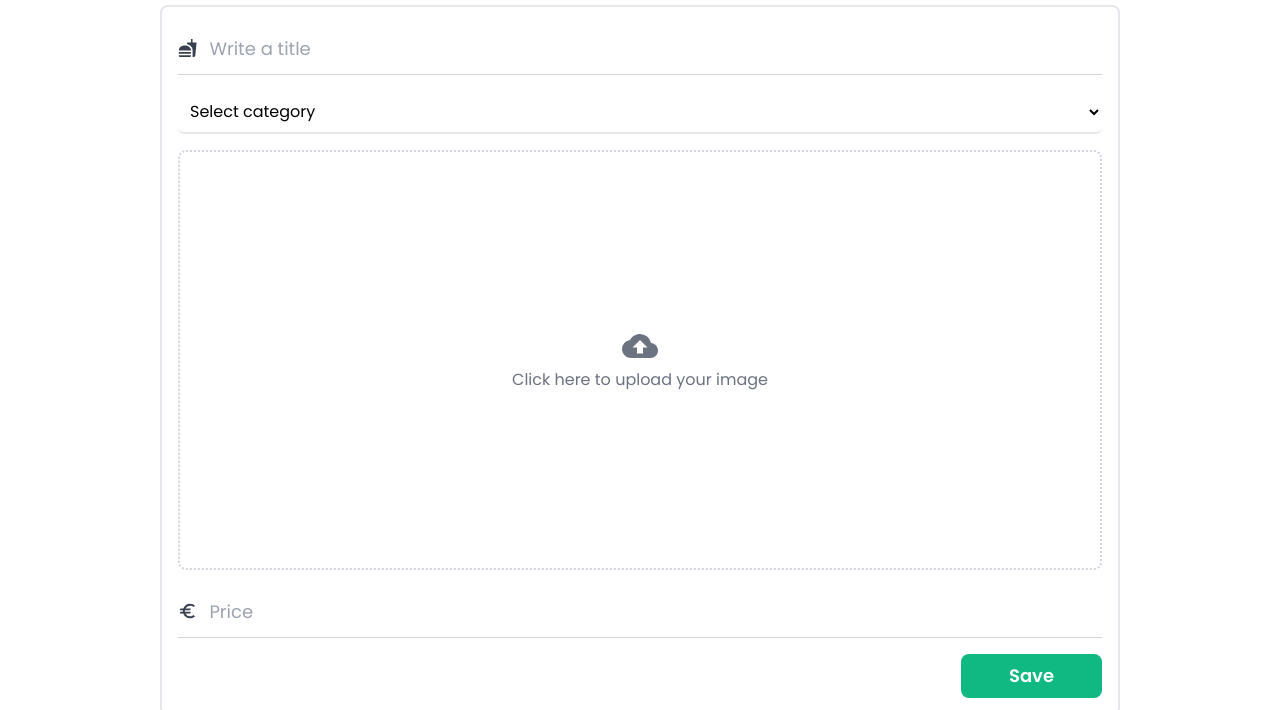
Test: CreateProduct Component page › Should render CreateProduct and display an error if fields are empty
Expected: the field with placeholder "Write a title" is shown, [205,30,1102,66]
Select "Starters" in the dropdown at (640, 112), box [178,90,1102,134]
Select "Nigiri" in the dropdown at (640, 112), box [178,90,1102,134]
Select "Maki" in the dropdown at (640, 112), box [178,90,1102,134]
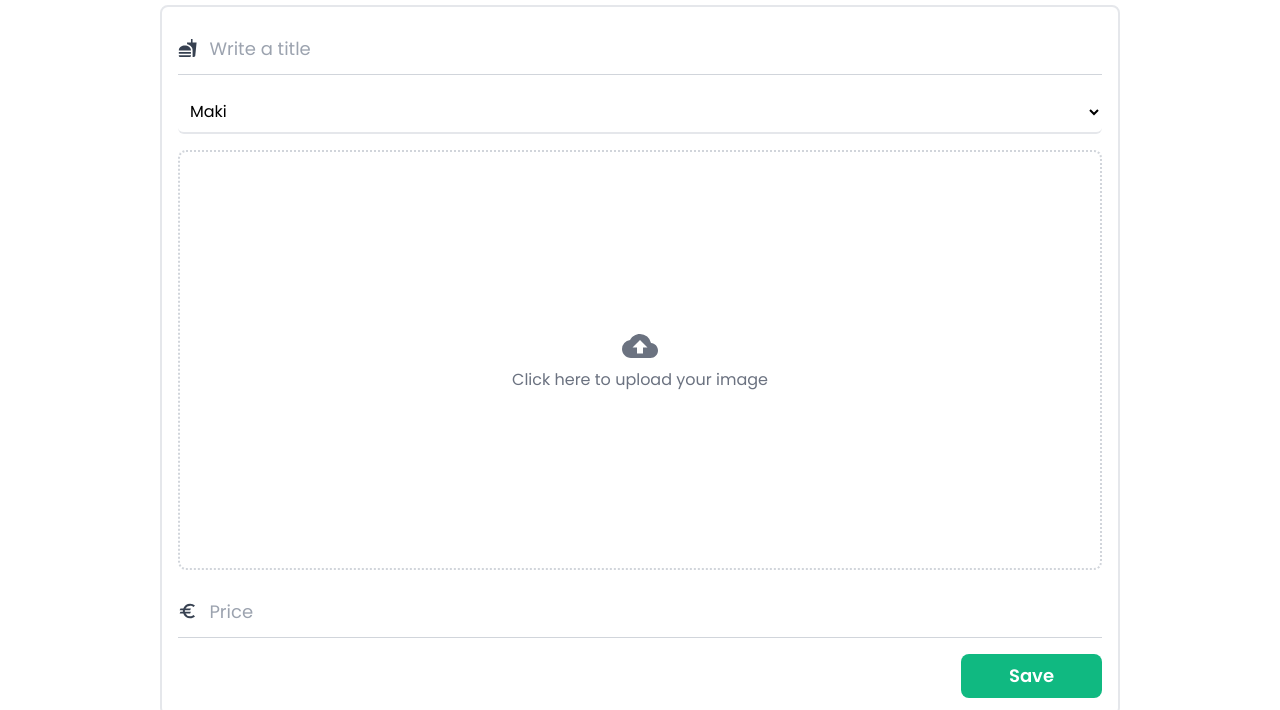
Select "Temaki" in the dropdown at (640, 112), box [178,90,1102,134]
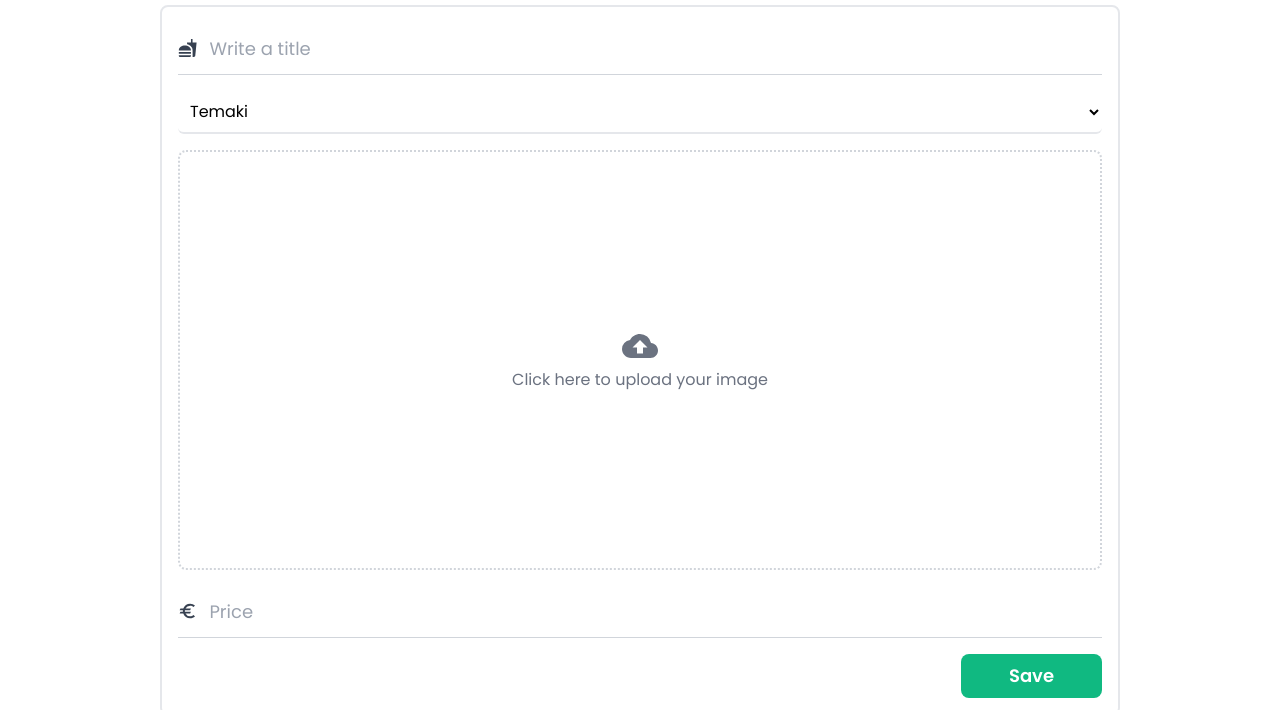
Select "Sashimi" in the dropdown at (640, 112), box [178,90,1102,134]
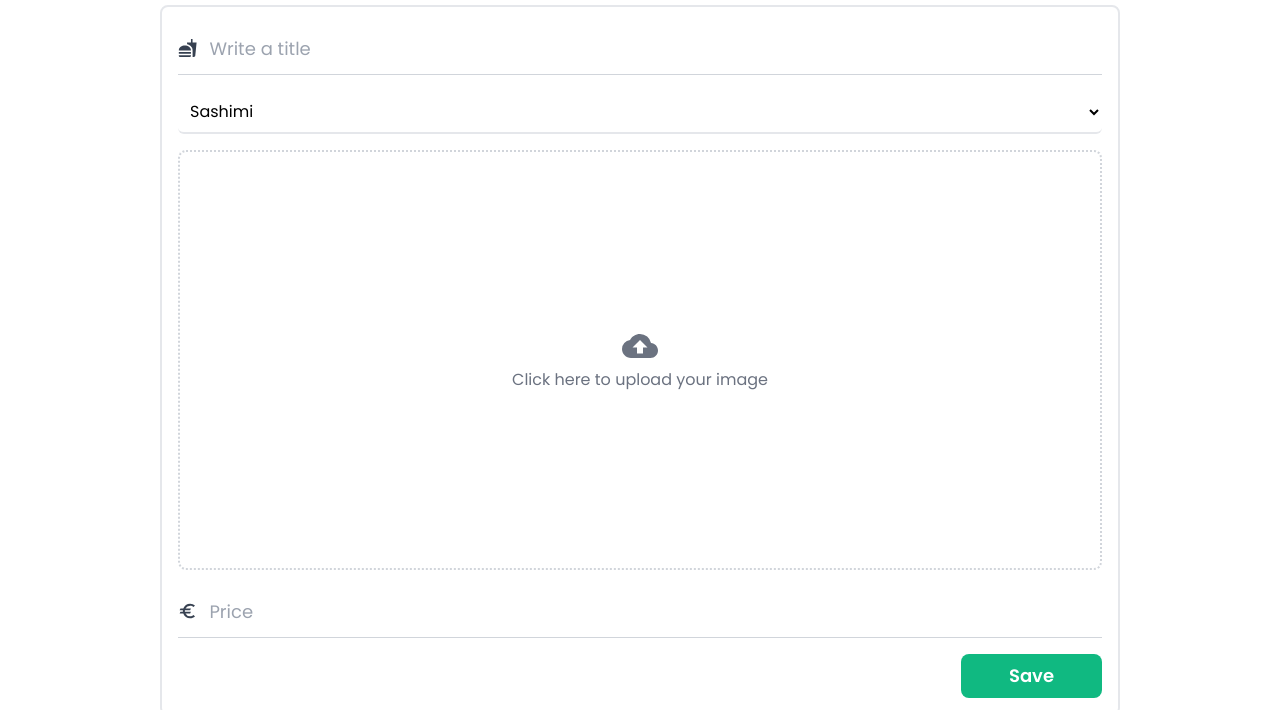
Select "Tempura" in the dropdown at (640, 112), box [178,90,1102,134]
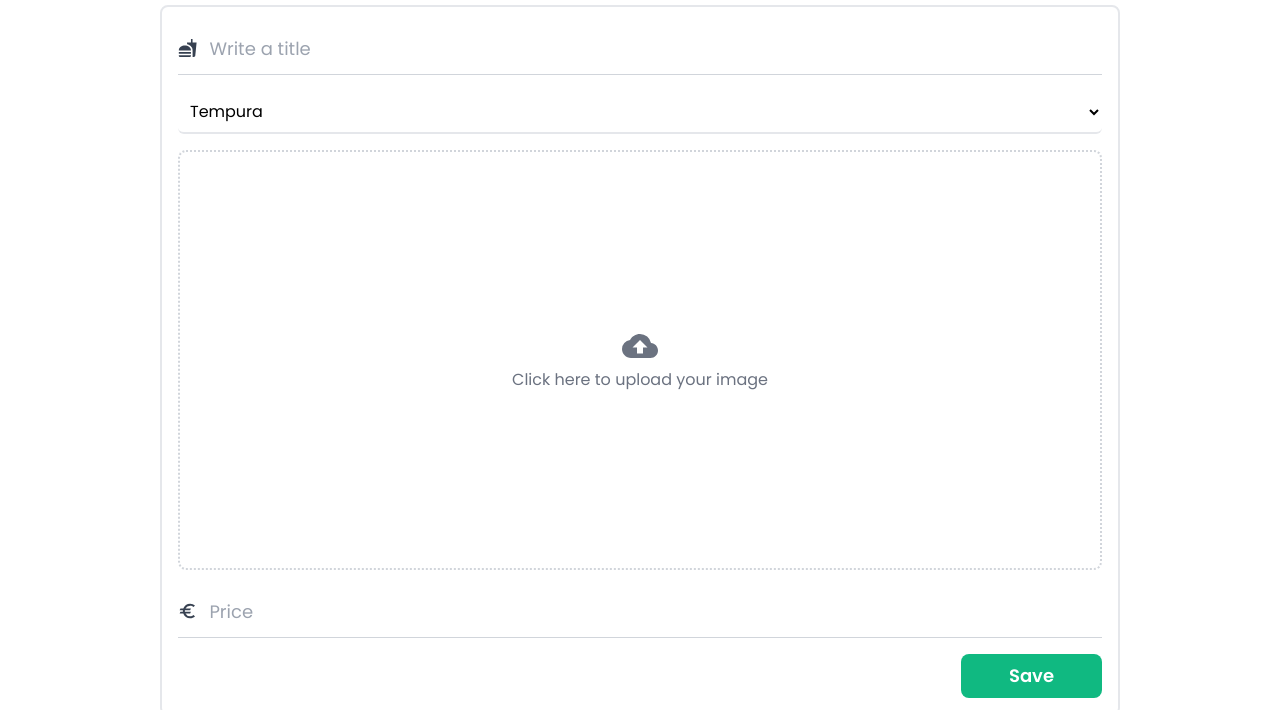
Select "Drinks" in the dropdown at (640, 112), box [178,90,1102,134]
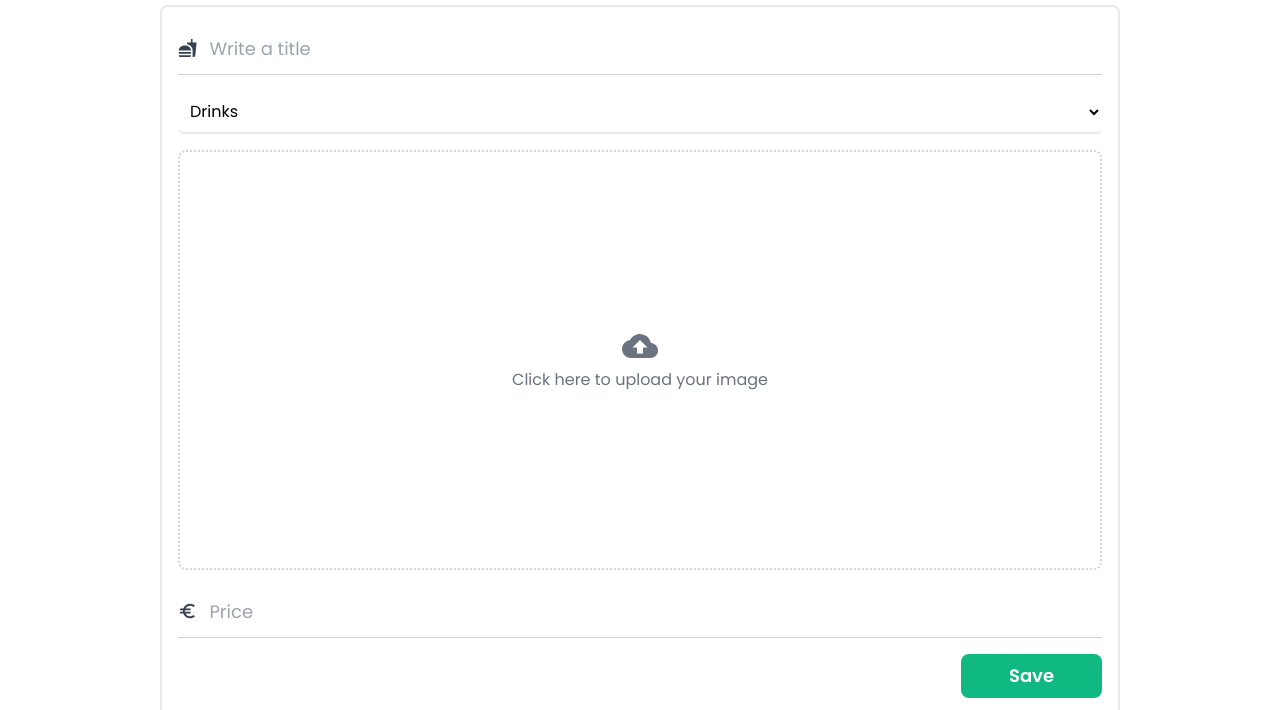
Expected: the file field labelled "Click here to upload your image" is shown, [512,328,768,390]
Expected: the field with placeholder "Price" is shown, [205,594,1102,628]
Click the button "Save".
click(1031, 676)  # box [961,654,1102,698]
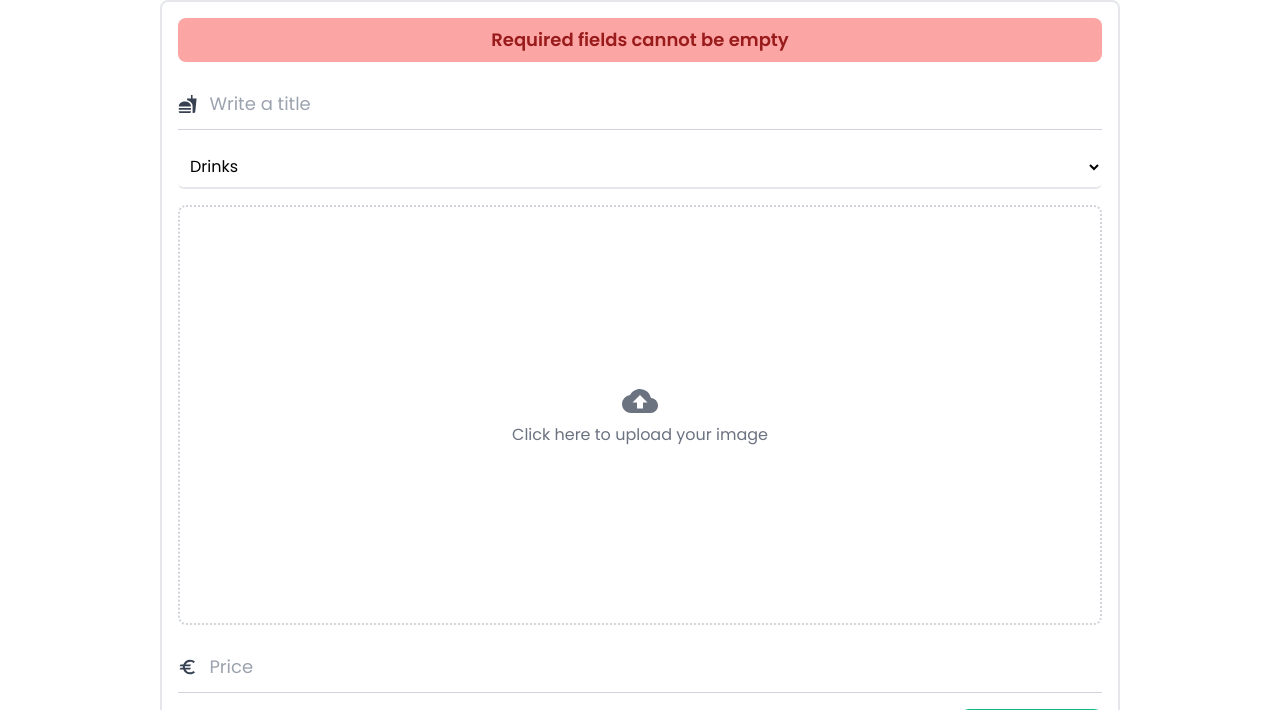
Result: the text "Required fields cannot be empty" is shown at [178,18,1102,62]
